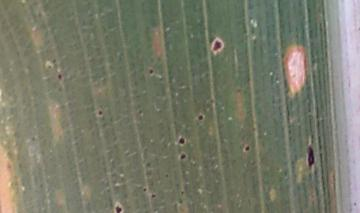tarspot: (302, 140, 318, 170), (209, 34, 225, 56), (109, 200, 128, 213), (173, 133, 188, 147), (193, 110, 208, 124), (54, 70, 67, 83), (176, 151, 191, 162), (94, 106, 106, 119), (241, 142, 254, 154), (143, 158, 154, 170), (49, 54, 59, 67), (178, 187, 188, 199), (139, 184, 150, 193), (146, 66, 155, 77), (149, 192, 158, 200)
